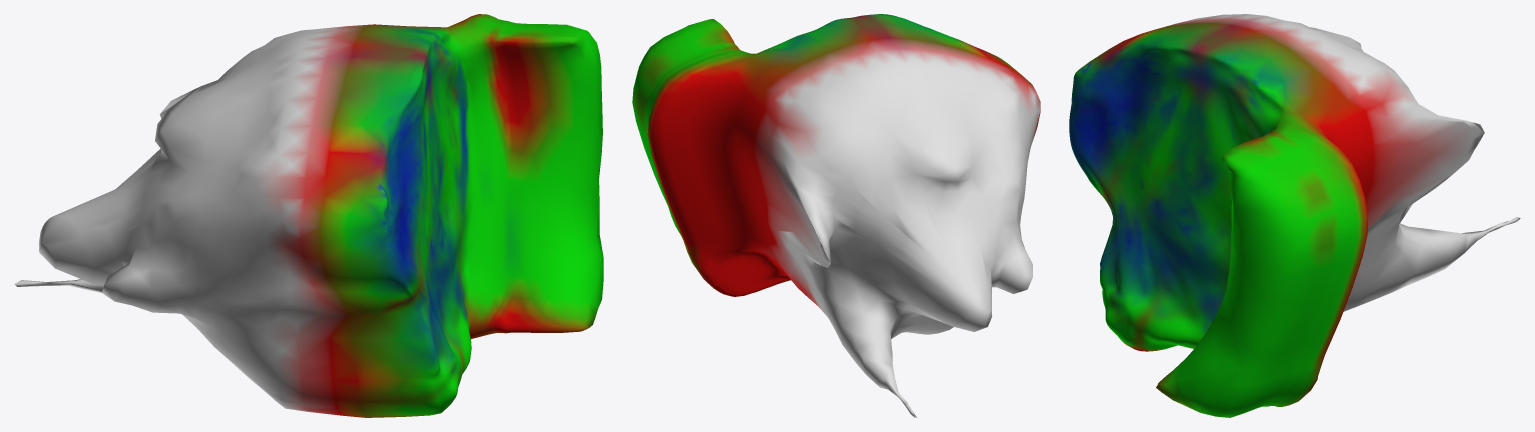
File: HG_Q2_OuterRing_Terrain_002.fbx
The picture shows the model from 3 angles, left to right: view 1: azimuth 30°, elevation 25°; view 2: azimuth 150°, elevation 25°; view 3: azimuth 270°, elevation 25°; orthographic projection. The views are drawn at different scales.
Parts seen in each view (by area): view 1: HG_Q2_OuterRing_Terrain_002; view 2: HG_Q2_OuterRing_Terrain_002; view 3: HG_Q2_OuterRing_Terrain_002.
Part boxes in pixels (left/top/right/bottom): HG_Q2_OuterRing_Terrain_002: left=14, top=14, right=603, bottom=417; HG_Q2_OuterRing_Terrain_002: left=632, top=14, right=1040, bottom=417; HG_Q2_OuterRing_Terrain_002: left=1069, top=14, right=1520, bottom=417.
Bounding box in the file's own units: 261 × 172 × 222.
